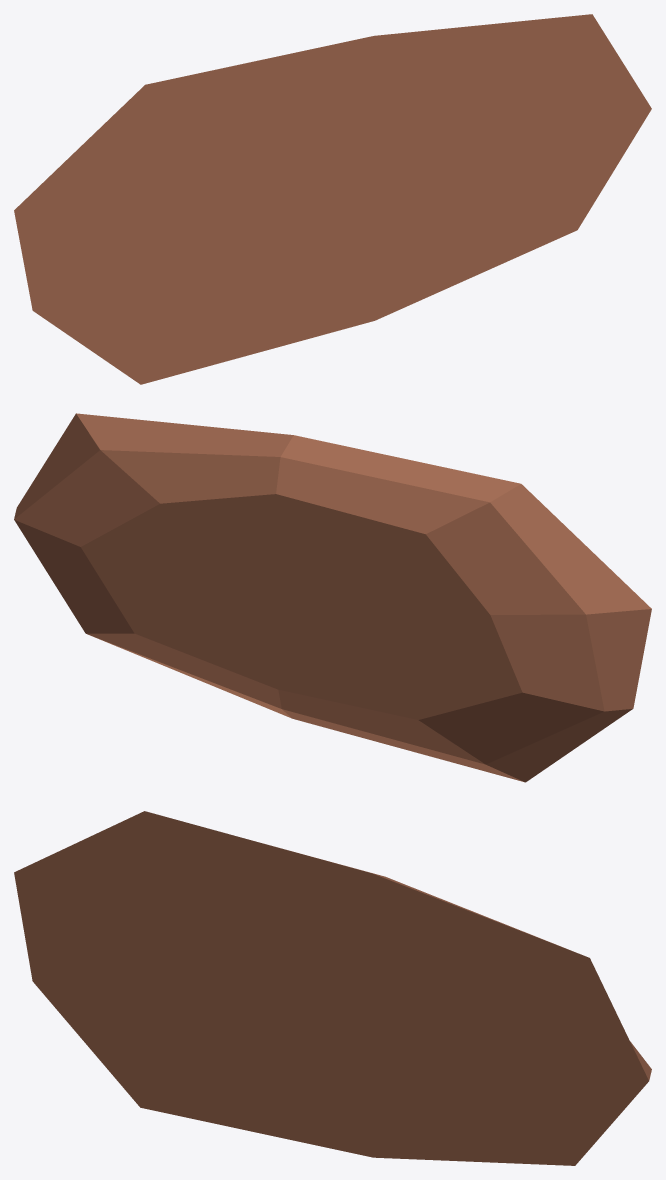
The model's file is CrashBasinGroundA.fbx.
3 renders of one model, top to bottom at view 1: azimuth 30°, elevation 25°; view 2: azimuth 150°, elevation 25°; view 3: azimuth 330°, elevation 25°, orthographic.
Parts seen in each view (by area): view 1: GroundChunk; view 2: GroundChunk; view 3: GroundChunk.
Boxes of the visible parts, bbox=[...] form: GroundChunk: bbox=[14, 14, 651, 384]; GroundChunk: bbox=[14, 413, 651, 782]; GroundChunk: bbox=[14, 811, 651, 1165].
Size of the model in its own units: 513 by 230 by 34.
